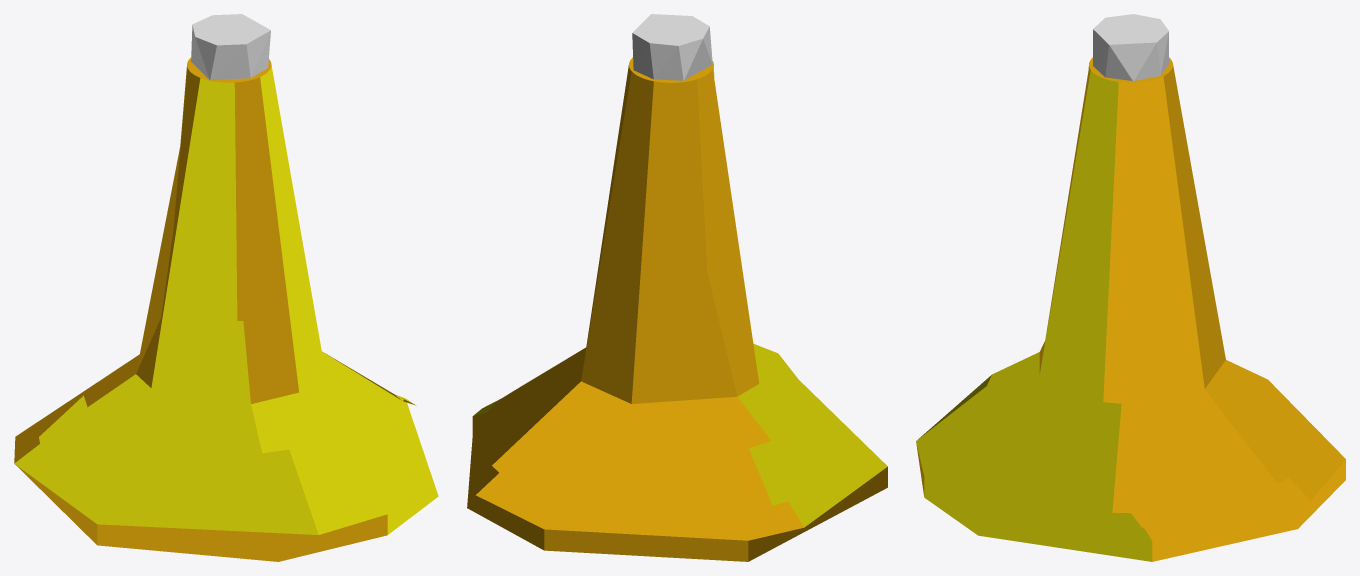
Rendered from BuoyLOD3.fbx.
The picture shows the model from 3 angles, left to right: view 1: azimuth 30°, elevation 25°; view 2: azimuth 150°, elevation 25°; view 3: azimuth 270°, elevation 25°; orthographic projection.
Visible parts, largest first — view 1: Base.003, Light.003; view 2: Base.003, Light.003; view 3: Base.003, Light.003.
Boxes of the visible parts, left/top/right/bottom form: Base.003: left=14, top=57, right=438, bottom=561; Light.003: left=191, top=14, right=270, bottom=80; Base.003: left=467, top=57, right=887, bottom=561; Light.003: left=632, top=14, right=712, bottom=80; Base.003: left=916, top=57, right=1345, bottom=561; Light.003: left=1093, top=14, right=1168, bottom=80.
Size of the model in its own units: 246 by 288 by 254.
